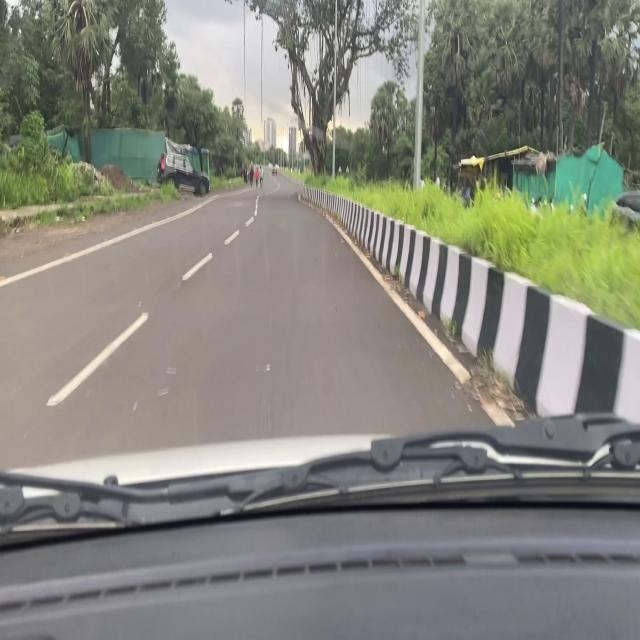lane: (307, 195, 516, 429), (59, 198, 278, 385), (1, 183, 244, 289)
